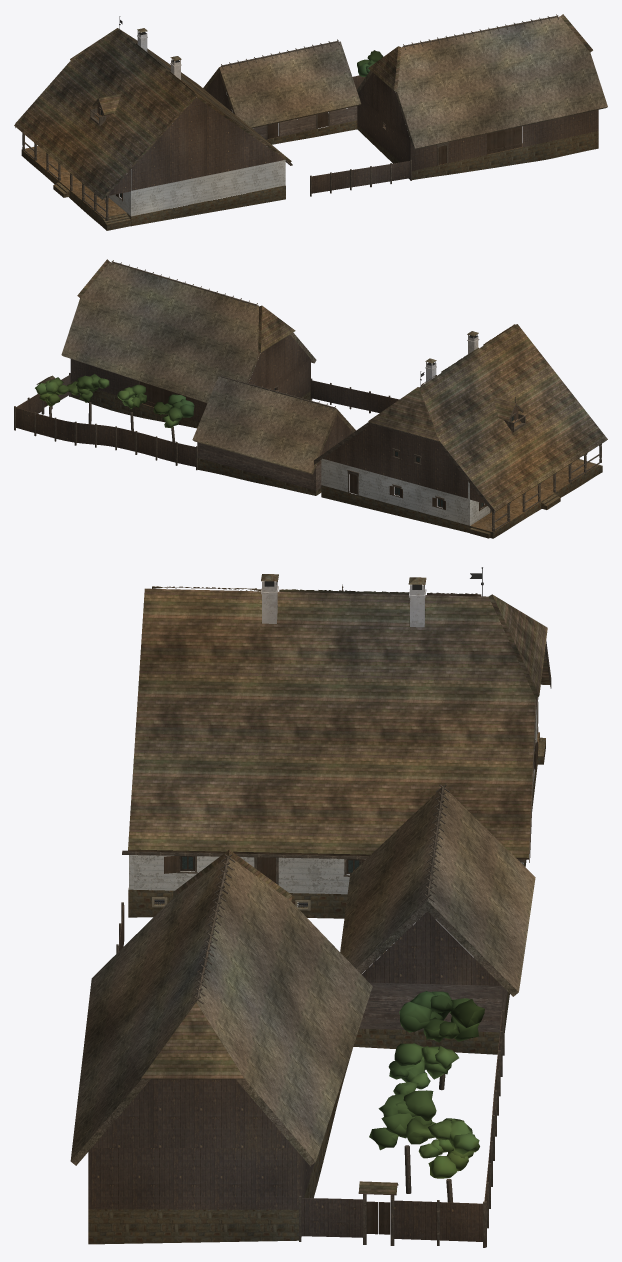
The model's file is dom14_lekki.glb.
The picture shows the model from 3 angles, top to bottom: view 1: azimuth 30°, elevation 25°; view 2: azimuth 150°, elevation 25°; view 3: azimuth 270°, elevation 25°; orthographic projection. The views are drawn at different scales.
Parts seen in each view (by area): view 1: Dom14_lekki; view 2: Dom14_lekki; view 3: Dom14_lekki.
Boxes of the visible parts, x1=… form: Dom14_lekki: x1=14, y1=14, x2=607, y2=230; Dom14_lekki: x1=14, y1=259, x2=607, y2=538; Dom14_lekki: x1=70, y1=567, x2=551, y2=1247.
Bounding box in the file's own units: 54.93 × 16.46 × 23.43.
16 materials, 13 textured.
